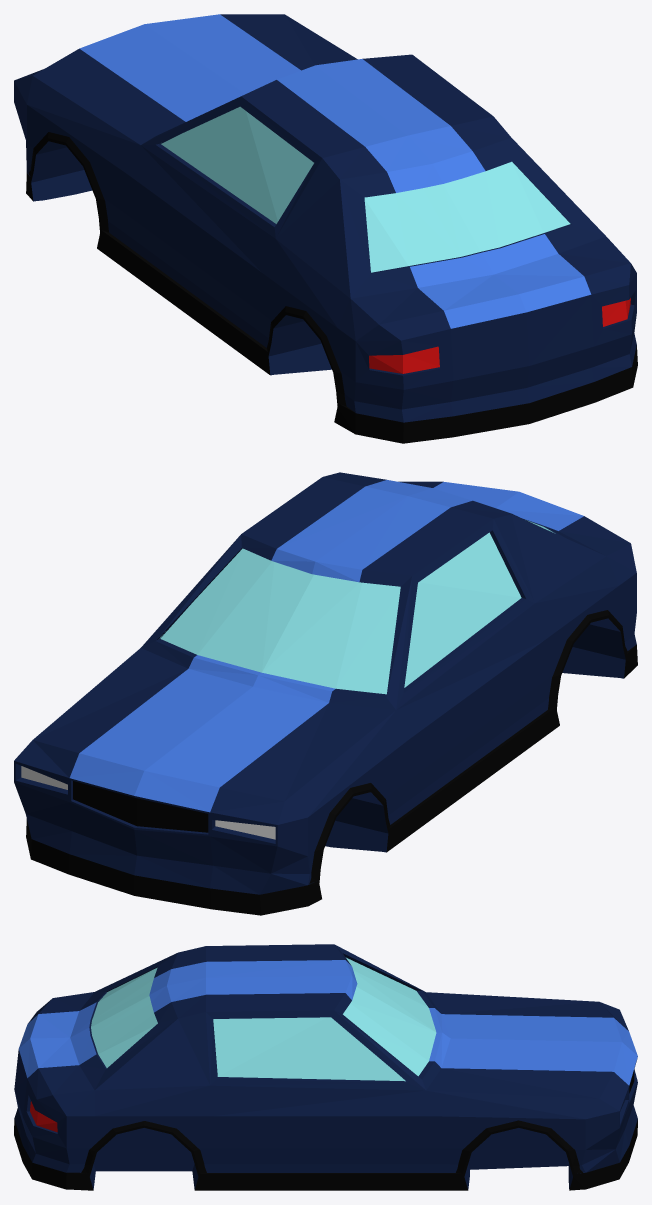
The model's file is car.glb.
3 views of the same model, one above another, from view 1: azimuth 30°, elevation 25°; view 2: azimuth 150°, elevation 25°; view 3: azimuth 270°, elevation 25° (orthographic). The views are drawn at different scales.
Visible parts, largest first — view 1: body; view 2: body; view 3: body.
Boxes of the visible parts, x1,y1,x2,y2 form: body: (14,14,637,443); body: (14,472,637,915); body: (14,944,637,1190).
Size of the model in its own units: 1.07 by 0.7468 by 2.53.
